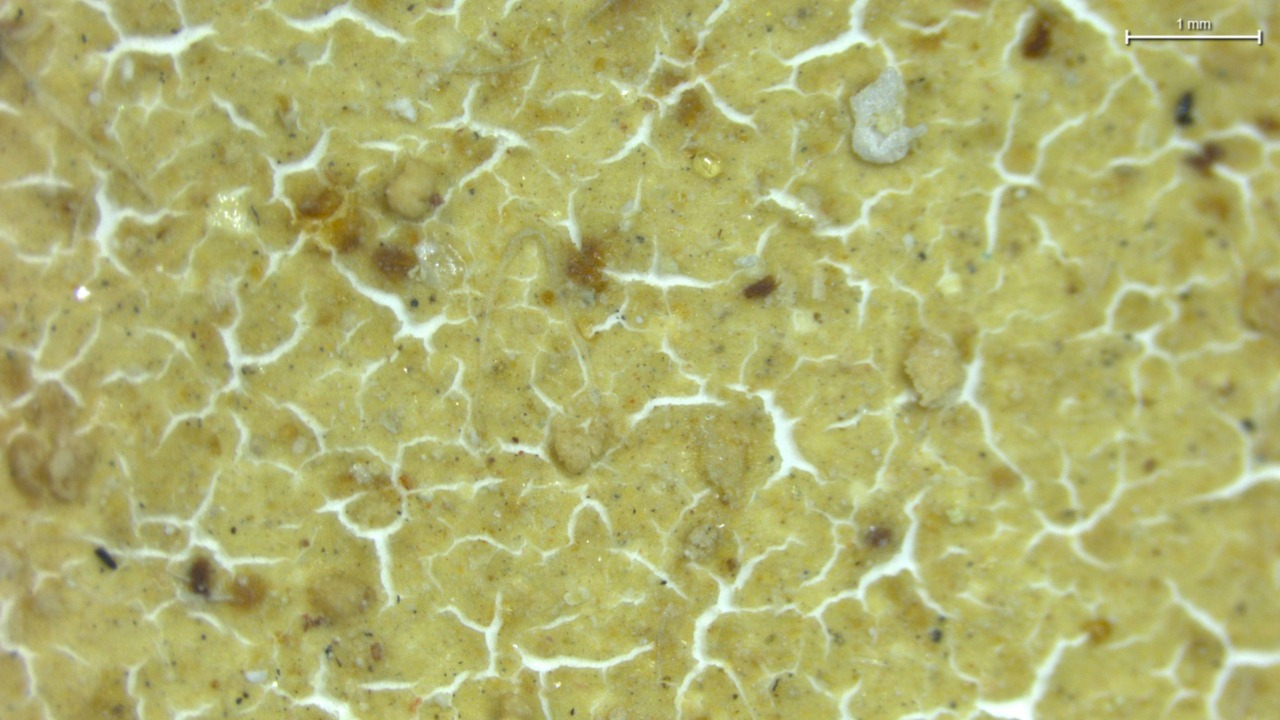microplastic_fragment: (850, 68, 927, 165), (902, 334, 964, 406), (383, 159, 442, 222), (555, 426, 600, 476)
